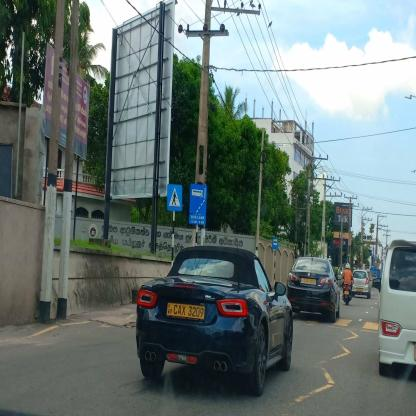car back: (133, 239, 294, 397)
number plate: (162, 300, 206, 323)
